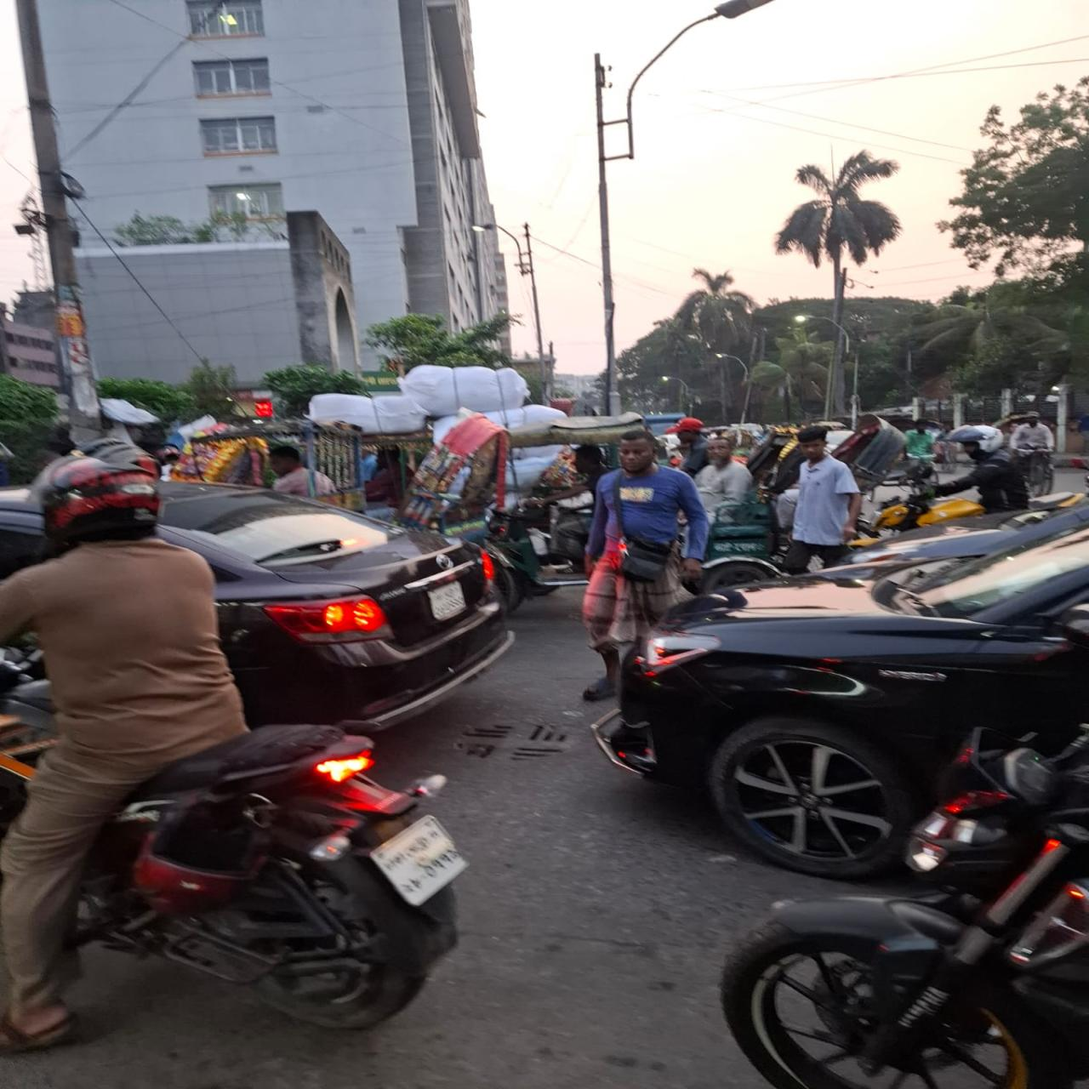person: (581, 431, 677, 643), (787, 422, 858, 567)
